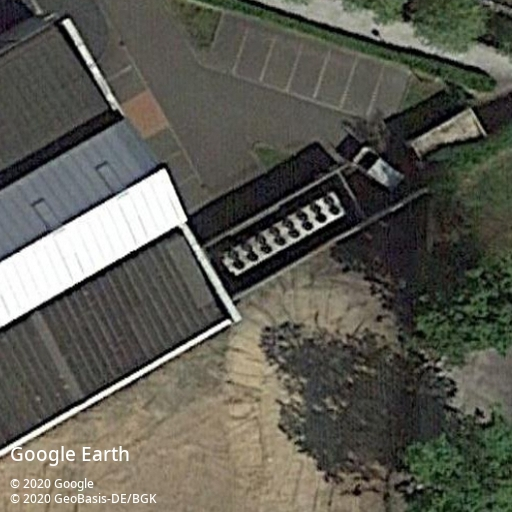Chiller: (220, 191, 347, 276)
